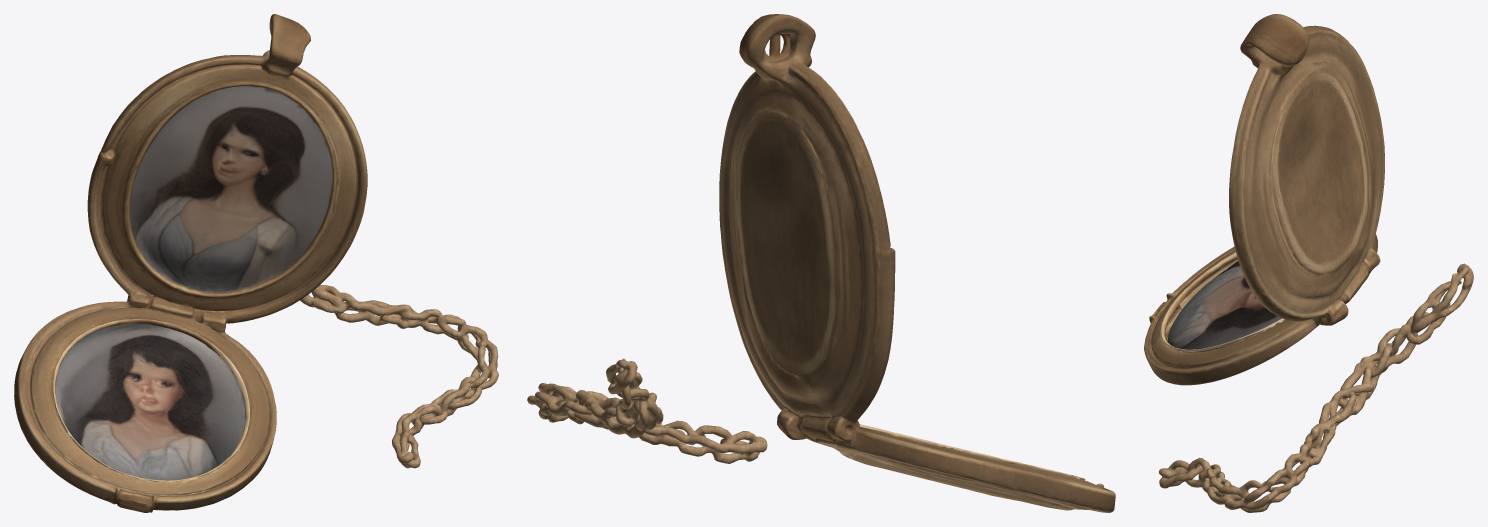
Rendered from midnight-fm-tower-shattered-locket.glb.
3 renders of one model, left to right at view 1: azimuth 30°, elevation 25°; view 2: azimuth 150°, elevation 25°; view 3: azimuth 270°, elevation 25°, orthographic. The views are drawn at different scales.
Size of the model in its own units: 0.9705 by 0.8475 by 0.5845.
Materials: 1 (1 with a texture image).
